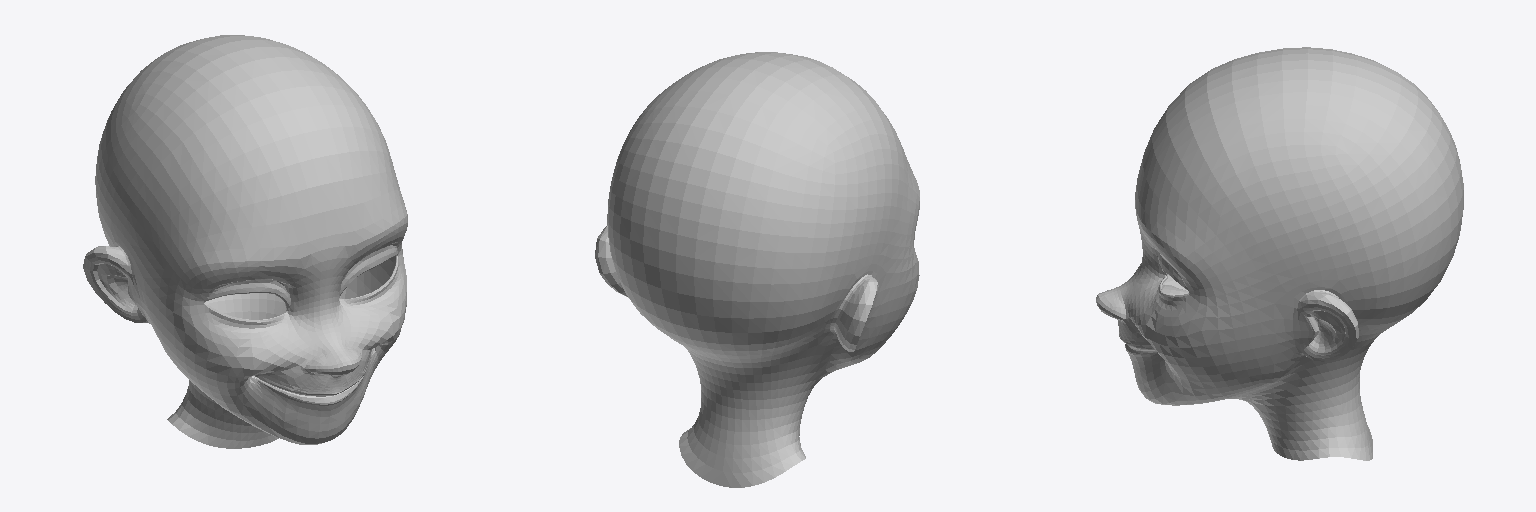
File: pos6.obj
The picture shows the model from 3 angles: view 1: azimuth 30°, elevation 25°; view 2: azimuth 150°, elevation 25°; view 3: azimuth 270°, elevation 25°; orthographic projection.
Parts seen in each view (by area): view 1: Mesh; view 2: Mesh; view 3: Mesh.
Boxes of the visible parts, box(x1,y1,x2,y2) form: Mesh: box(83, 35, 407, 448); Mesh: box(595, 52, 919, 487); Mesh: box(1096, 47, 1463, 460).
Bounding box in the file's own units: 23.75 × 32.31 × 27.53.